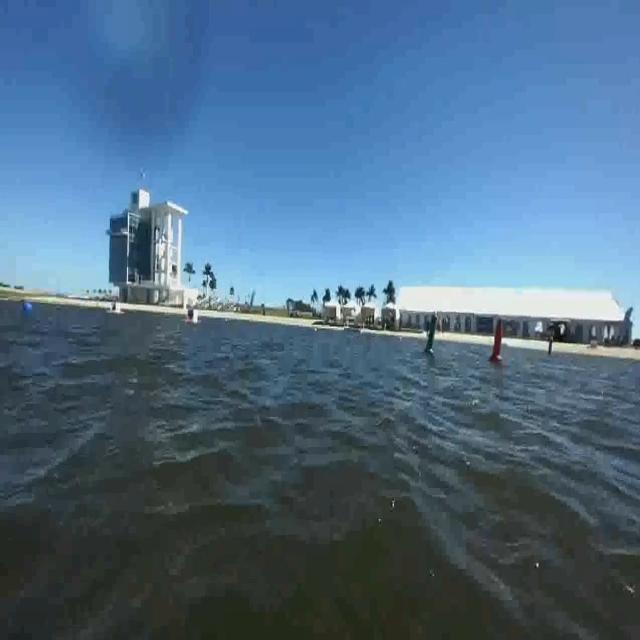blue-buoy: (20, 291, 38, 316)
green-column-buoy: (424, 315, 439, 356)
red-column-buoy: (489, 320, 506, 366)
